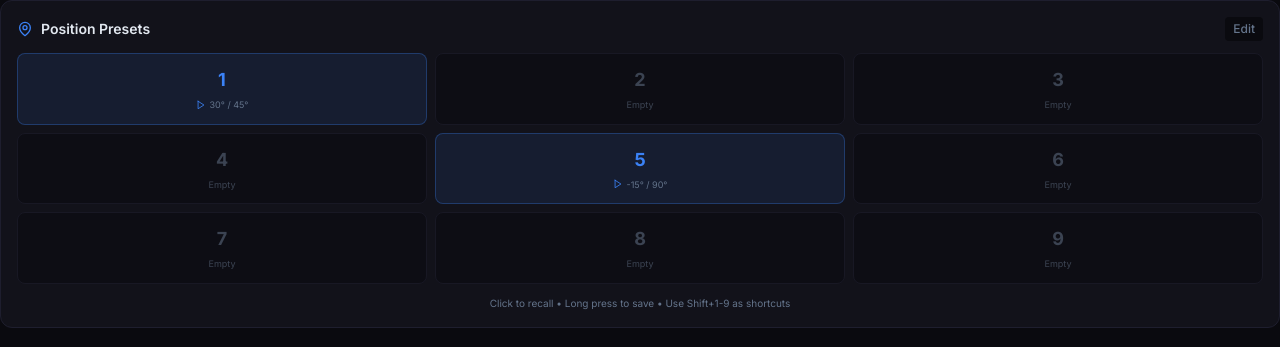
PresetControls › Presets with data › should show delete button in edit mode for saved presets
Click the button "Edit": (1244, 29) [1225,17,1263,41]
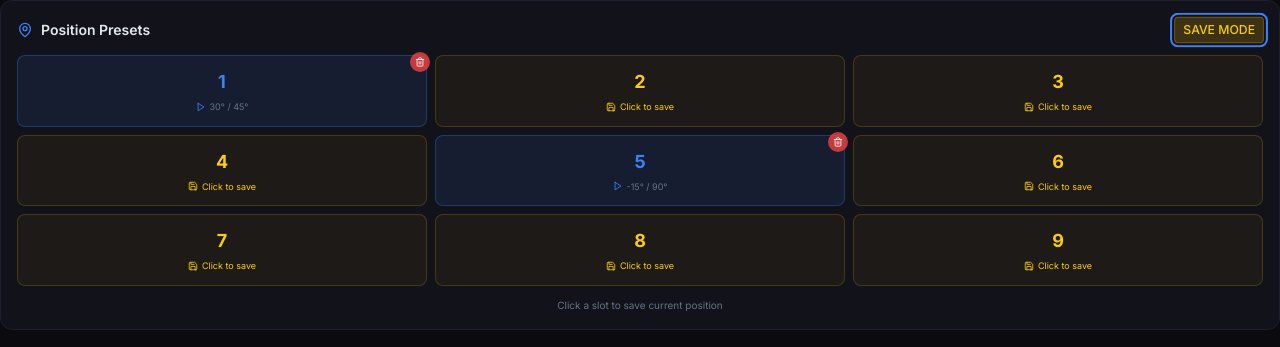
Check: the number of buttons with class "absolute" is 2, box [410,52,430,72]; [828,132,848,152]
